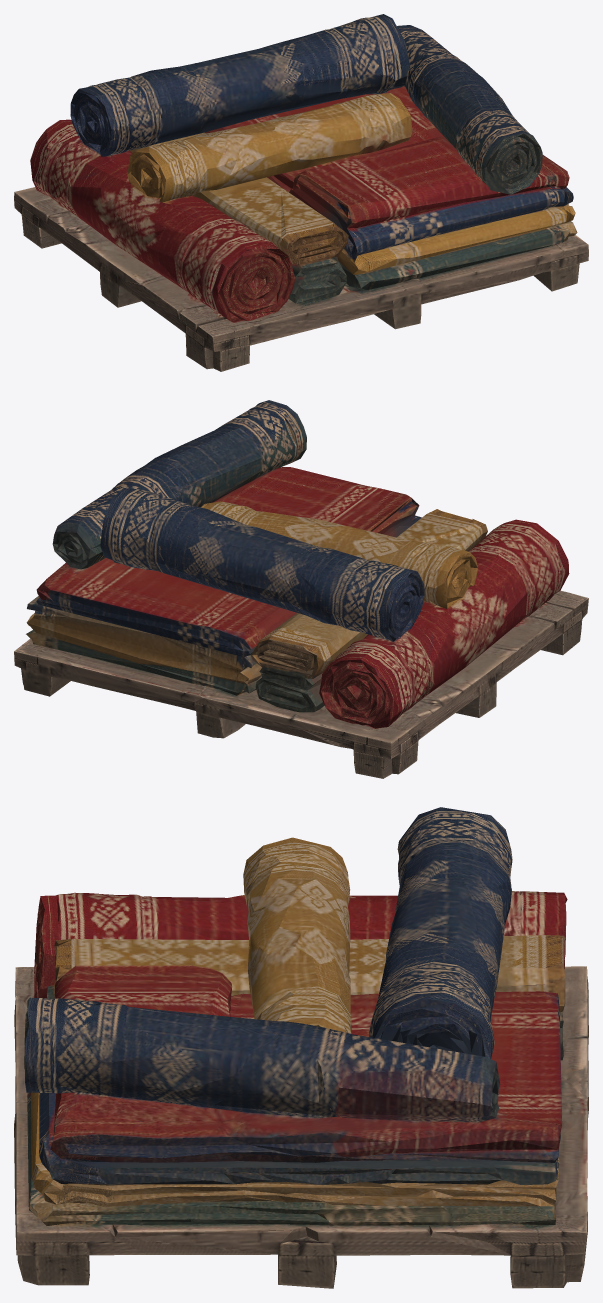
Rendered from cloth_pile.glb.
The picture shows the model from 3 angles, top to bottom: view 1: azimuth 30°, elevation 25°; view 2: azimuth 150°, elevation 25°; view 3: azimuth 270°, elevation 25°; orthographic projection. The views are drawn at different scales.
Visible parts, largest first — view 1: Mesh_0; view 2: Mesh_0; view 3: Mesh_0.
Boxes of the visible parts, left/top/right/bottom form: Mesh_0: left=14, top=14, right=588, bottom=371; Mesh_0: left=14, top=400, right=588, bottom=778; Mesh_0: left=14, top=807, right=588, bottom=1288.
Bounding box in the file's own units: 1.6 × 0.706 × 1.45.
1 material, 1 textured.
